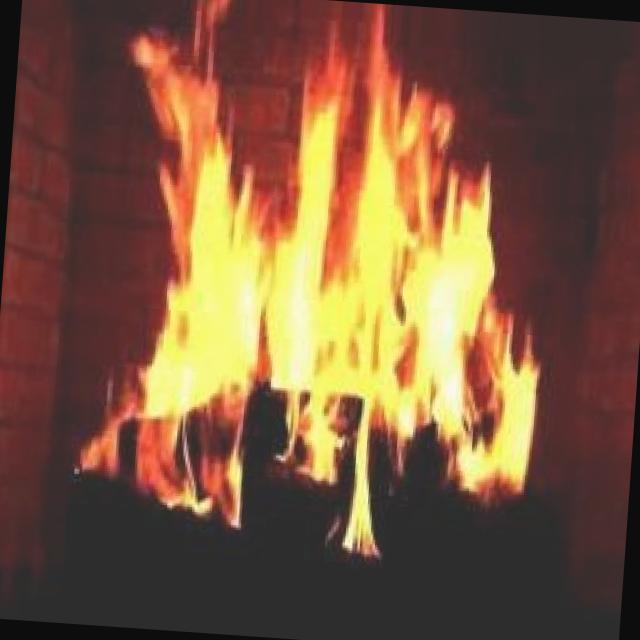fire: (64, 0, 589, 567)
